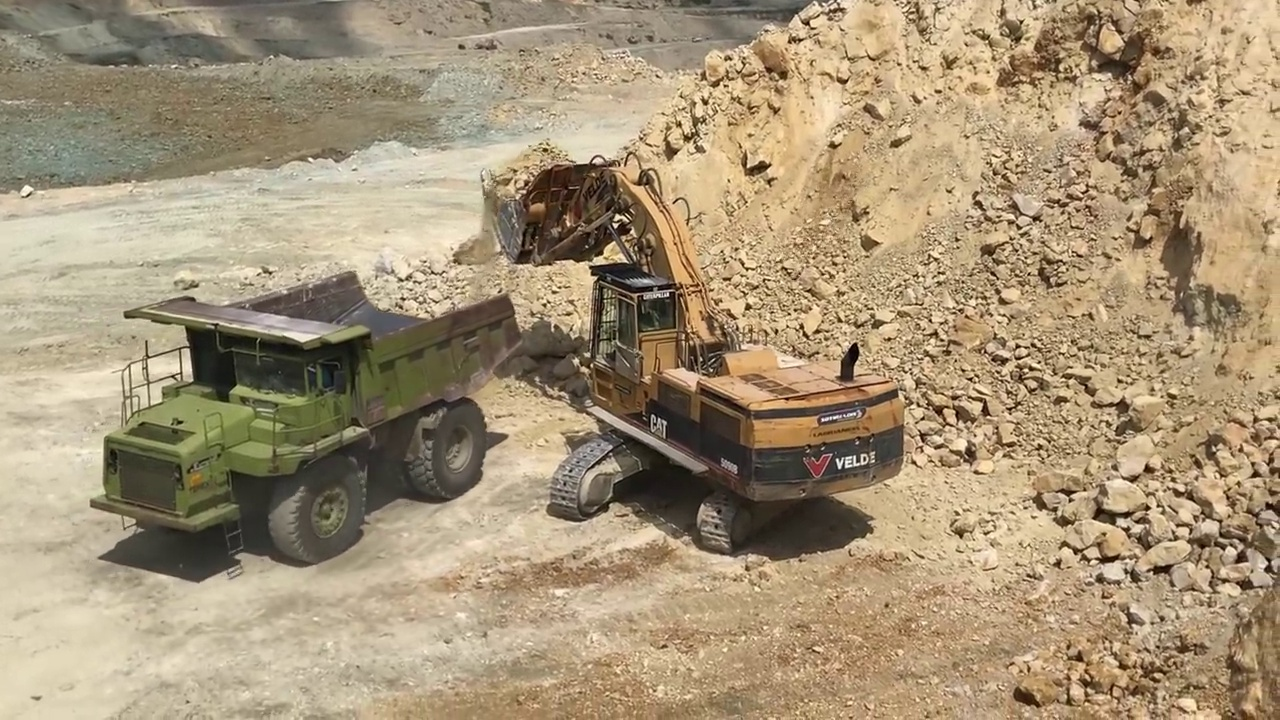truck: (91, 271, 528, 562)
wheel loader: (484, 145, 910, 555)
